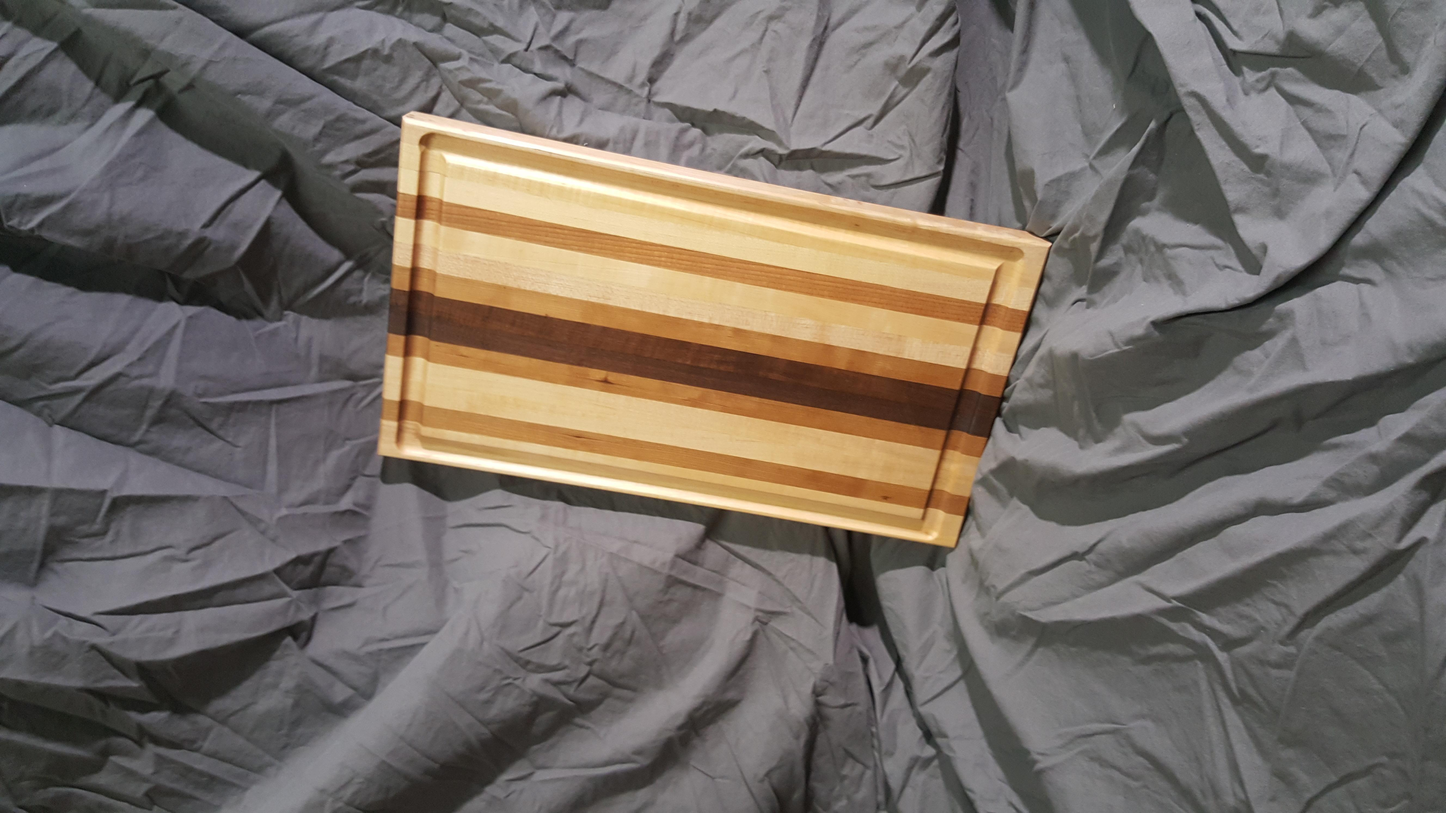gloved_hand: (243, 360, 712, 813)
